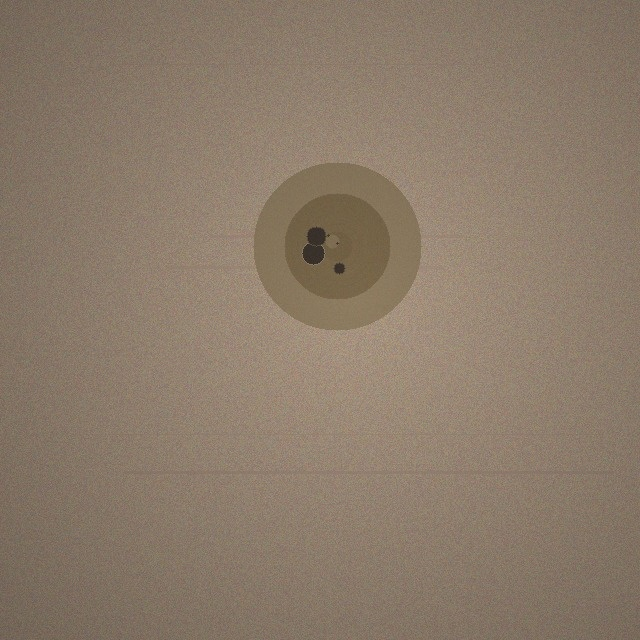shrinkage: (253, 162, 421, 330)
